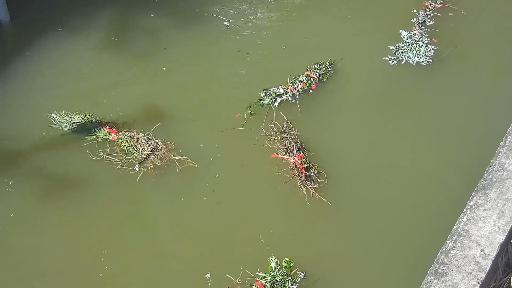twig: (64, 101, 197, 199), (234, 45, 345, 122), (259, 114, 344, 212), (382, 0, 466, 67), (224, 251, 307, 288)
